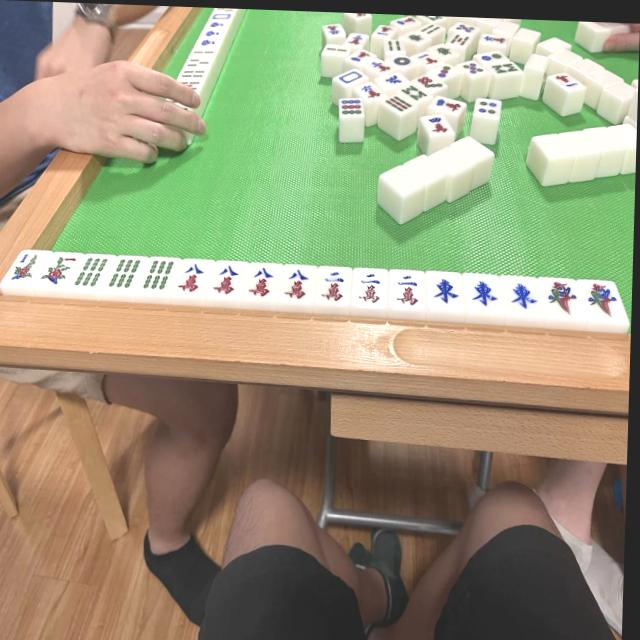east: (428, 272, 462, 318), (504, 278, 540, 319), (467, 277, 500, 318)
m2: (390, 271, 425, 316), (317, 265, 349, 307), (355, 268, 385, 307)
m8: (245, 263, 276, 303), (211, 262, 240, 303), (176, 259, 205, 297), (281, 267, 310, 303)
s1: (582, 279, 618, 323), (544, 277, 579, 322)
s6: (140, 257, 175, 296), (74, 253, 107, 294), (110, 255, 142, 295)
